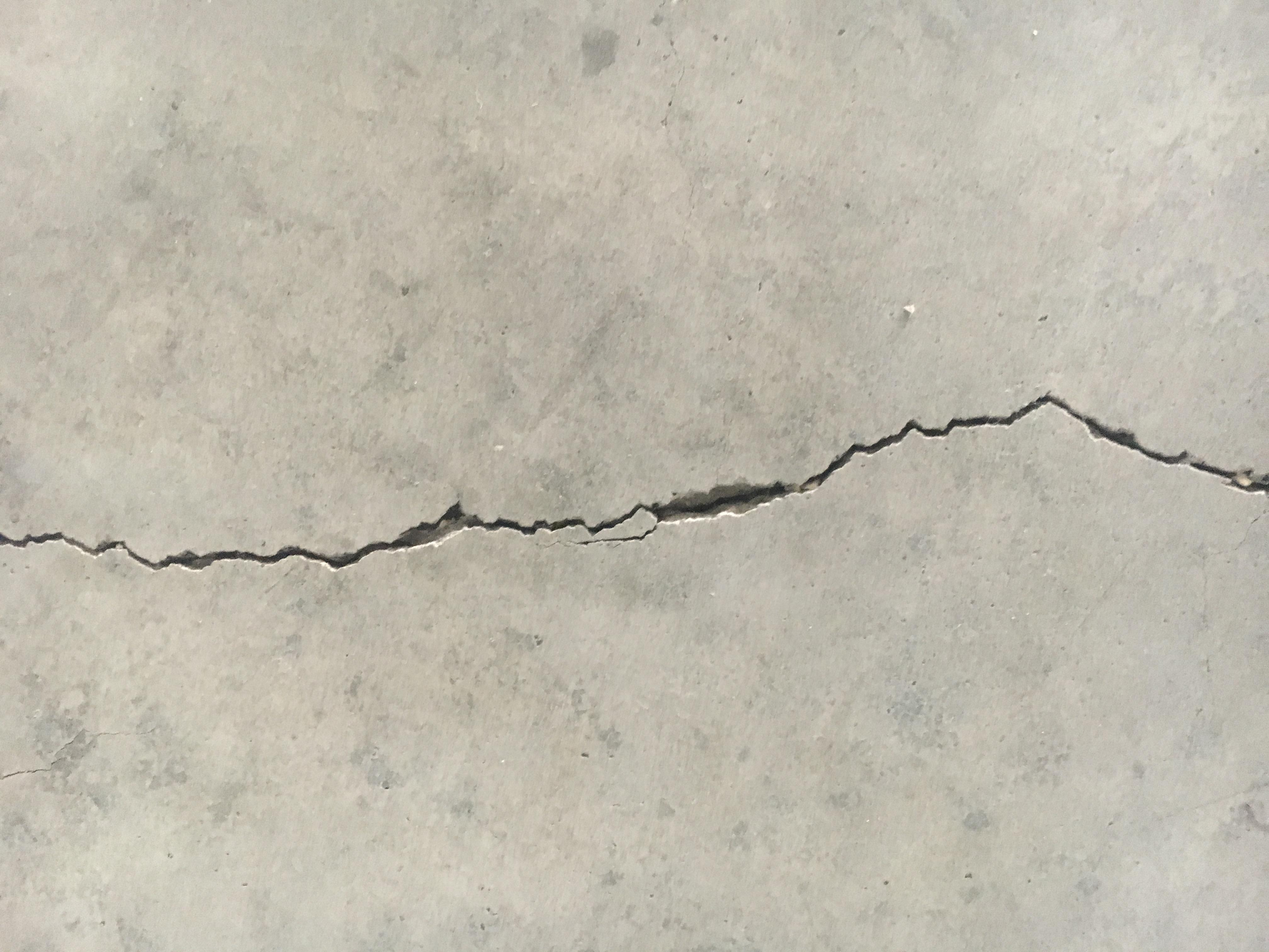Horizontal Settlement Crack: (3, 388, 1266, 577)
